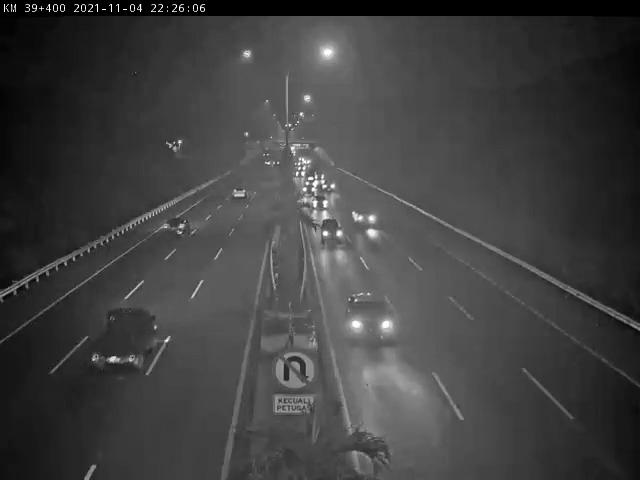car: (336, 288, 403, 351), (320, 221, 348, 245), (162, 218, 189, 241), (351, 210, 382, 227), (312, 195, 335, 216), (228, 185, 253, 204)
truck-s-: (80, 304, 171, 375)
